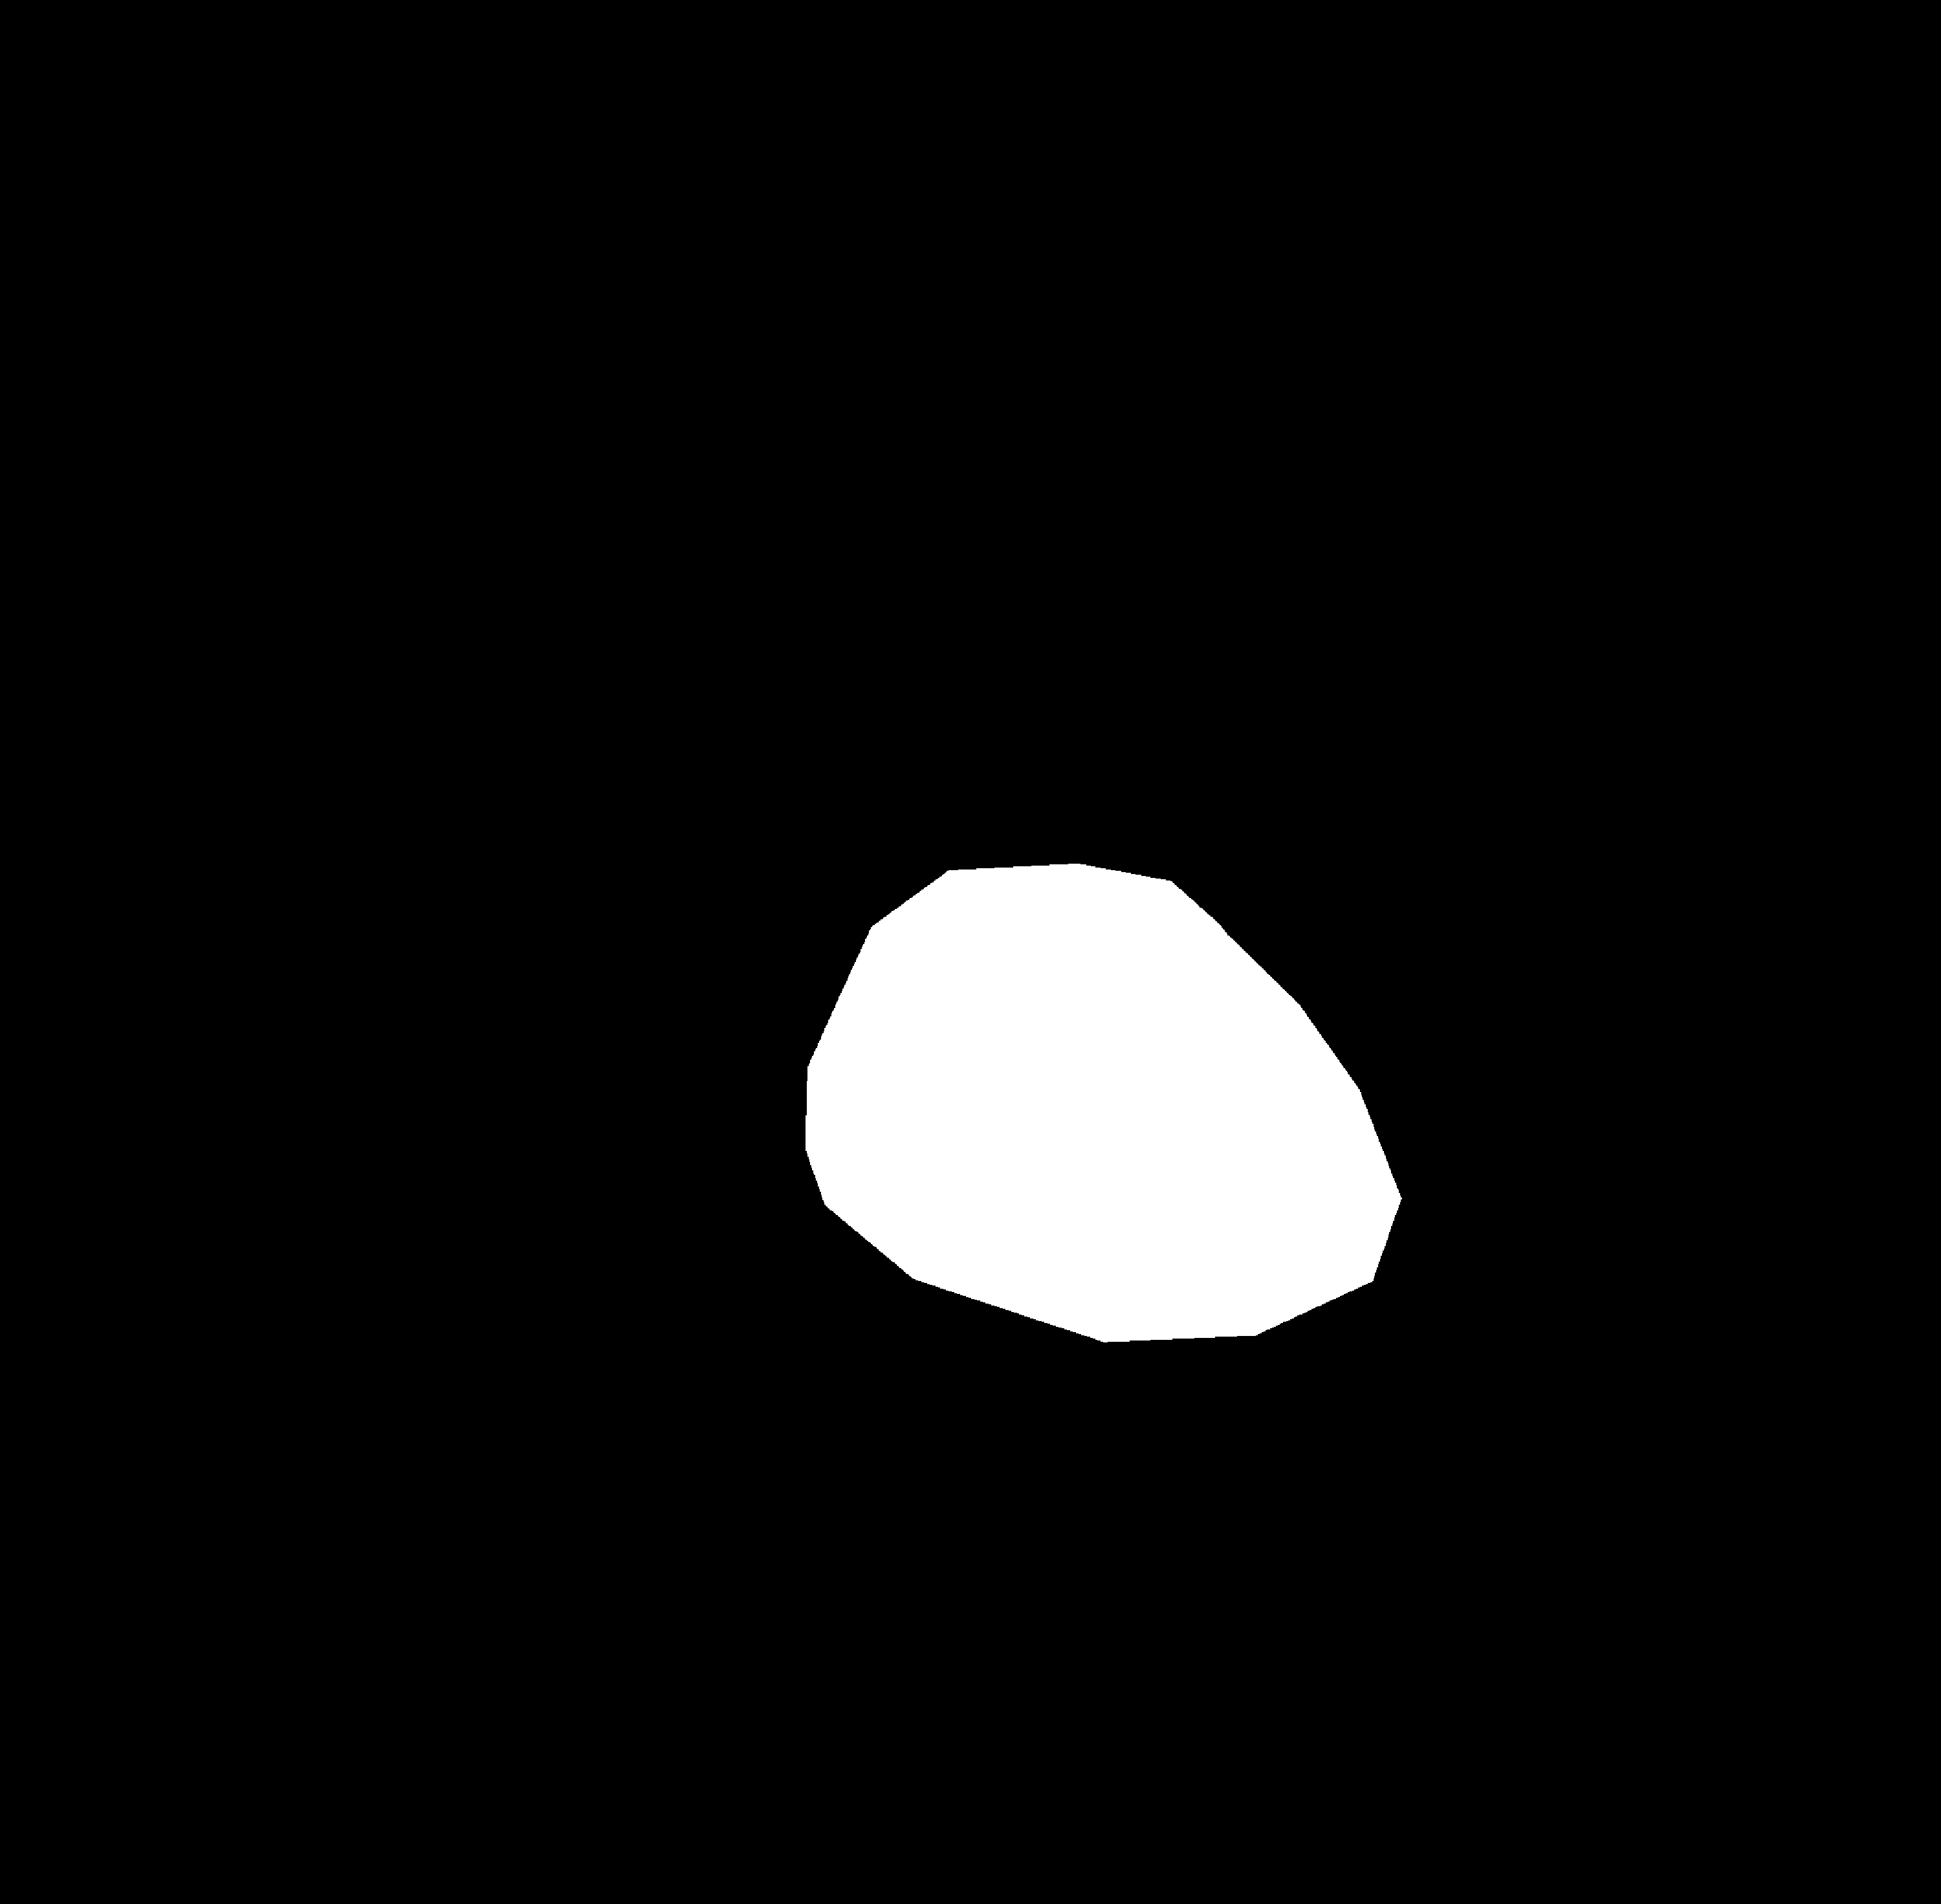heart: (806, 971, 1413, 1320)
left_lung: (345, 300, 928, 1248)
right_lung: (1005, 296, 1528, 1384)
